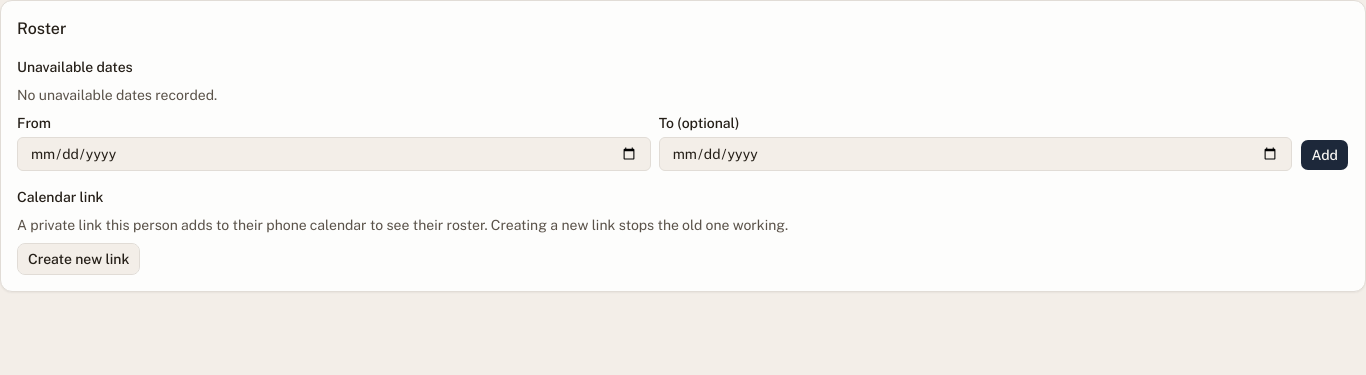
Test case: PersonRosterCard › shows the new calendar link once, or the error
The image size is (1366, 375).
Expected: the text "No unavailable dates recorded." is shown, [17,87,217,103]
Click the button "Create new link". click: (79, 259)
box: [17,243,140,275]
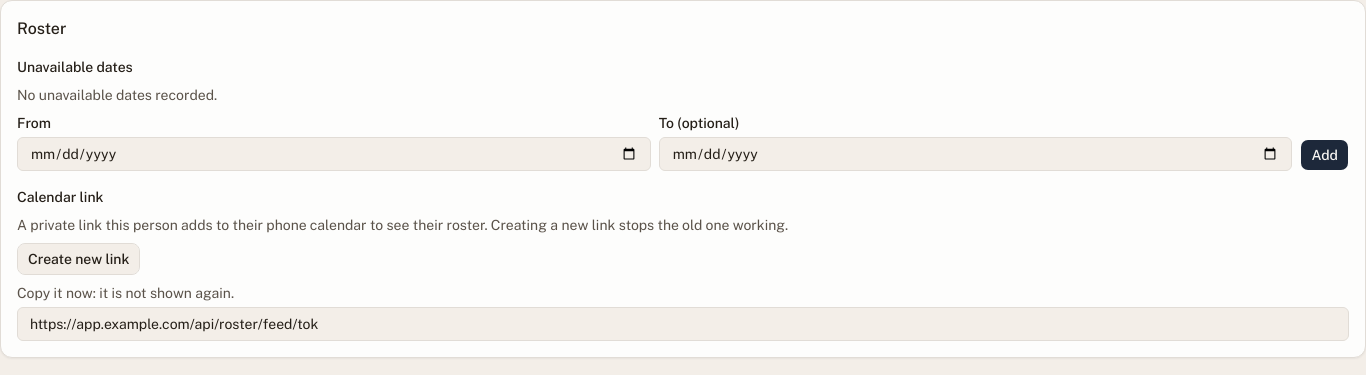
Expected: the field showing "https://app.example.com/api/roster/feed/tok" is shown, [17,307,1349,341]
Click the button "Create new link". click: (79, 259)
box: [17,243,140,275]
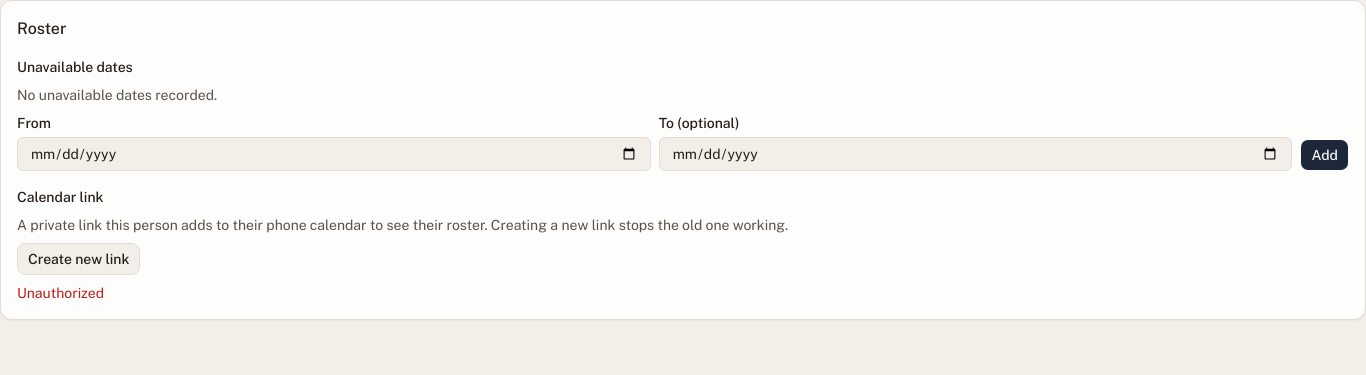
Expected: the field showing "api/roster/feed" is not shown
Expected: the text "Unauthorized" is shown, [17,285,104,301]
